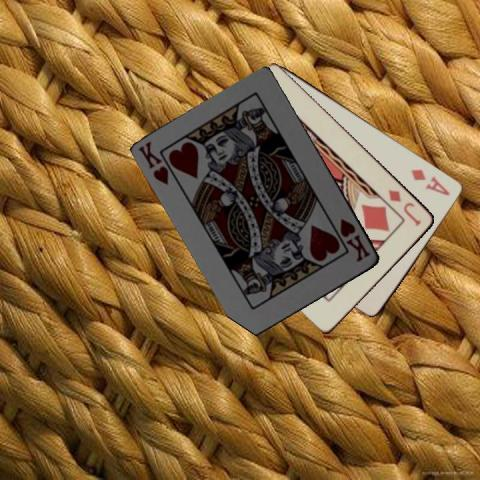Ad: (407, 166, 452, 197)
Jd: (386, 186, 423, 228)
Kh: (135, 138, 171, 186), (337, 215, 372, 264)
